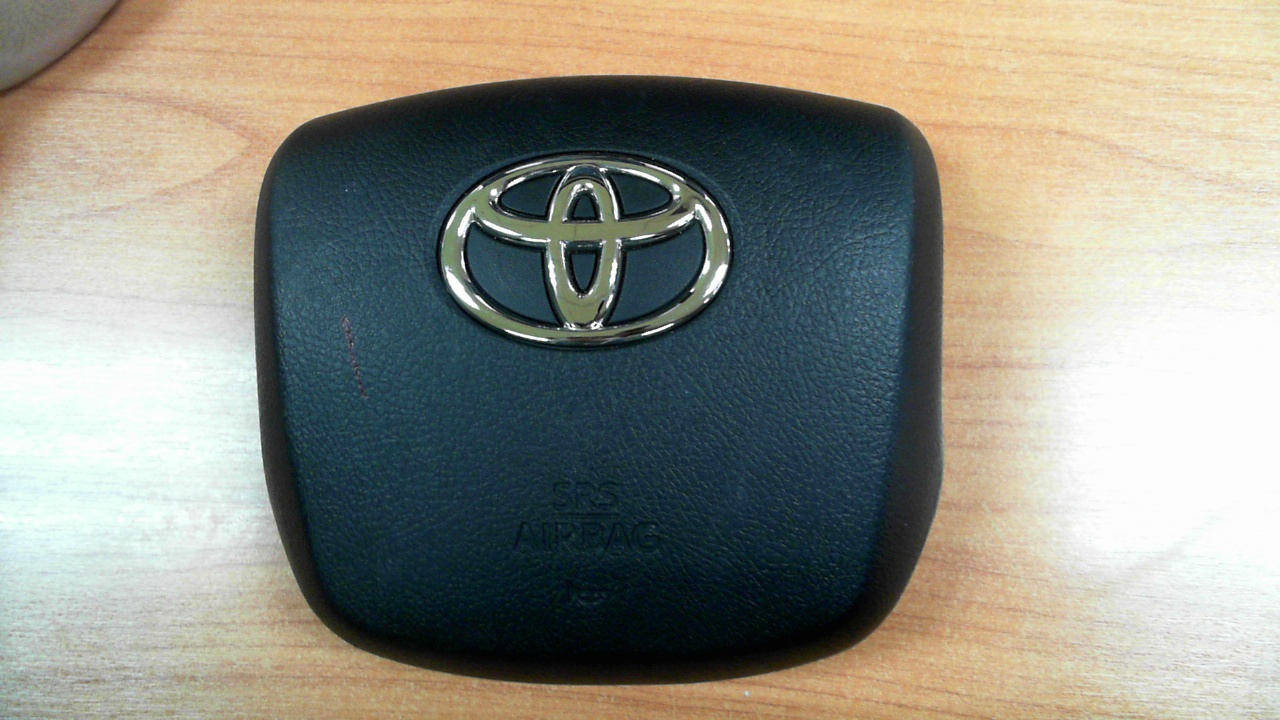Airbag: (251, 73, 946, 688)
Toyota: (440, 154, 731, 349)
